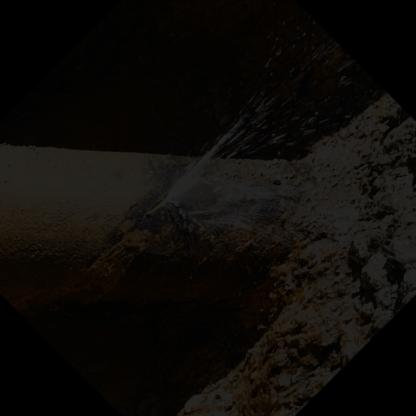burst: (132, 151, 194, 233)
